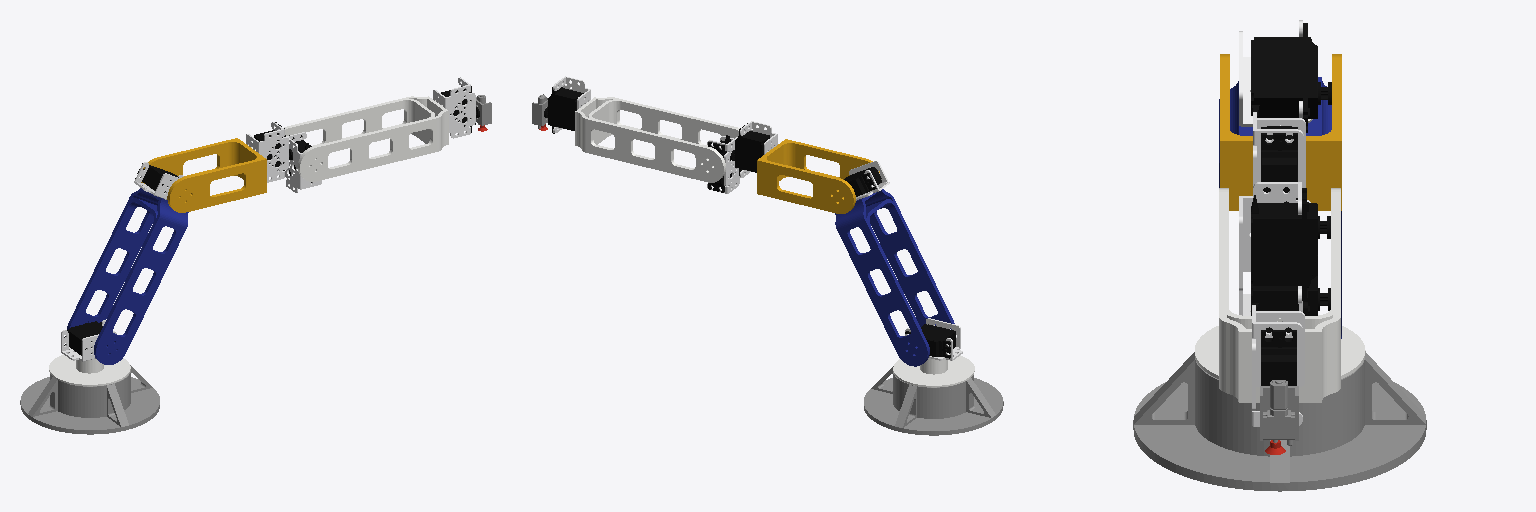
--- What the picture shows (computed from the rendered views, not written in the file) ---
The picture shows the robot from 3 angles, left to right: view 1: azimuth 30°, elevation 25°; view 2: azimuth 150°, elevation 25°; view 3: azimuth 270°, elevation 25°; orthographic projection.
Robot: robotic_arm_v3 — 19 links, 18 joints (6 continuous, 12 fixed); root link base_link; default pose: all joints at 0.
Visible links, largest first — view 1: link_2, link_5, base_link, link_3, link_1, servo_motor_mount_v2__4__1, servo_motor_mount_v2__2__1, link_4, servo_motor_mount_v2_1, MG996R_v5__1__1, servo_motor_mount_v2__1__1; view 2: link_2, link_5, base_link, link_3, link_1, MG996R_v5__5__1, MG996R_v5__3__1, MG996R_v5__1__1, link_4, MG996R_v5__2__1, servo_motor_mount_v2__4__1, servo_motor_mount_v2__2__1 (+1 smaller); view 3: base_link, link_5, link_3, MG996R_v5__4__1, MG996R_v5__2__1, servo_motor_mount_v2__4__1, link_4, MG996R_v5__3__1, MG996R_v5__5__1, link_1, MG996R_v5__1__1, servo_motor_mount_v2__2__1 (+4 smaller).
Boxes of the visible links, bbox=[...] form: link_2: bbox=[67, 188, 188, 364]; link_5: bbox=[284, 96, 448, 181]; base_link: bbox=[20, 365, 159, 434]; link_3: bbox=[141, 138, 266, 212]; link_1: bbox=[49, 354, 130, 386]; servo_motor_mount_v2__4__1: bbox=[433, 77, 475, 138]; servo_motor_mount_v2__2__1: bbox=[246, 122, 288, 182]; link_4: bbox=[285, 132, 321, 192]; servo_motor_mount_v2_1: bbox=[61, 320, 116, 361]; MG996R_v5__1__1: bbox=[64, 321, 102, 355]; servo_motor_mount_v2__1__1: bbox=[134, 162, 183, 199]; link_2: bbox=[835, 189, 954, 366]; link_5: bbox=[575, 97, 739, 182]; base_link: bbox=[864, 366, 1003, 435]; link_3: bbox=[757, 139, 879, 213]; link_1: bbox=[893, 355, 974, 387]; MG996R_v5__5__1: bbox=[544, 87, 583, 133]; MG996R_v5__3__1: bbox=[731, 123, 769, 175]; MG996R_v5__1__1: bbox=[905, 324, 955, 358]; link_4: bbox=[707, 136, 739, 193]; MG996R_v5__2__1: bbox=[844, 167, 881, 196]; servo_motor_mount_v2__4__1: bbox=[553, 76, 590, 132]; servo_motor_mount_v2__2__1: bbox=[740, 121, 777, 177]; base_link: bbox=[1133, 352, 1426, 491]; link_5: bbox=[1219, 188, 1340, 402]; link_3: bbox=[1220, 54, 1341, 210]; MG996R_v5__4__1: bbox=[1251, 188, 1330, 300]; MG996R_v5__2__1: bbox=[1251, 23, 1331, 132]; servo_motor_mount_v2__4__1: bbox=[1252, 305, 1304, 426]; link_4: bbox=[1239, 182, 1310, 303]; MG996R_v5__3__1: bbox=[1261, 126, 1297, 202]; MG996R_v5__5__1: bbox=[1261, 327, 1296, 385]; link_1: bbox=[1195, 326, 1365, 378]; MG996R_v5__1__1: bbox=[1251, 276, 1330, 315]; servo_motor_mount_v2__2__1: bbox=[1253, 112, 1305, 187].
Bounding box of the posed robot: 0.5659 × 0.15 × 0.2773 m (x, y, z).
Meshes: 19 distinct files referenced, 19 mesh visuals loaded (19 binary STL).

The robot description file, URDF, robot "robotic_arm_v3":
<?xml version="1.0" ?>
<!-- =================================================================================== -->
<!-- |    This document was autogenerated by xacro from [local-path]/ws_moveit/src/Robotic_Arm/robotic_arm_v3_description/urdf/robotic_arm_v3.xacro | -->
<!-- |    EDITING THIS FILE BY HAND IS NOT RECOMMENDED                                 | -->
<!-- =================================================================================== -->
<robot name="robotic_arm_v3">
    <material name="silver_default">
        <color rgba="0.700 0.700 0.700 1.000" />
    </material>
    <material name="steel_satin">
        <color rgba="0.6274509803921569 0.6274509803921569 0.6274509803921569 1.0" />
    </material>
    <material name="plastic_glossy_black">
        <color rgba="0.09803921568627451 0.09803921568627451 0.09803921568627451 1.0" />
    </material>
    <material name="abs_white">
        <color rgba="0.9647058823529412 0.9647058823529412 0.9529411764705882 1.0" />
    </material>
    <material name="aluminum_satin">
        <color rgba="0.9607843137254902 0.9607843137254902 0.9647058823529412 1.0" />
    </material>
    <material name="paint_enamel_glossy_blue">
        <color rgba="0.18823529411764706 0.23137254901960785 0.5882352941176471 1.0" />
    </material>
    <material name="paint_enamel_glossy_yellow">
        <color rgba="0.9098039215686274 0.6784313725490196 0.13725490196078433 1.0" />
    </material>
    <material name="paint_enamel_glossy_red">
        <color rgba="0.7686274509803922 0.20784313725490197 0.15294117647058825 1.0" />
    </material>
    <transmission name="twist_1_tran">
        <type>transmission_interface/SimpleTransmission</type>
        <joint name="twist_1">
            <hardwareInterface>PositionJointInterface</hardwareInterface>
        </joint>
        <actuator name="twist_1_actr">
            <hardwareInterface>PositionJointInterface</hardwareInterface>
            <mechanicalReduction>1</mechanicalReduction>
        </actuator>
    </transmission>
    <transmission name="rev_1_tran">
        <type>transmission_interface/SimpleTransmission</type>
        <joint name="rev_1">
            <hardwareInterface>PositionJointInterface</hardwareInterface>
        </joint>
        <actuator name="rev_1_actr">
            <hardwareInterface>PositionJointInterface</hardwareInterface>
            <mechanicalReduction>1</mechanicalReduction>
        </actuator>
    </transmission>
    <transmission name="rev_2_tran">
        <type>transmission_interface/SimpleTransmission</type>
        <joint name="rev_2">
            <hardwareInterface>PositionJointInterface</hardwareInterface>
        </joint>
        <actuator name="rev_2_actr">
            <hardwareInterface>PositionJointInterface</hardwareInterface>
            <mechanicalReduction>1</mechanicalReduction>
        </actuator>
    </transmission>
    <transmission name="twist_2_tran">
        <type>transmission_interface/SimpleTransmission</type>
        <joint name="twist_2">
            <hardwareInterface>PositionJointInterface</hardwareInterface>
        </joint>
        <actuator name="twist_2_actr">
            <hardwareInterface>PositionJointInterface</hardwareInterface>
            <mechanicalReduction>1</mechanicalReduction>
        </actuator>
    </transmission>
    <transmission name="rev_3_tran">
        <type>transmission_interface/SimpleTransmission</type>
        <joint name="rev_3">
            <hardwareInterface>PositionJointInterface</hardwareInterface>
        </joint>
        <actuator name="rev_3_actr">
            <hardwareInterface>PositionJointInterface</hardwareInterface>
            <mechanicalReduction>1</mechanicalReduction>
        </actuator>
    </transmission>
    <transmission name="twist_3_tran">
        <type>transmission_interface/SimpleTransmission</type>
        <joint name="twist_3">
            <hardwareInterface>PositionJointInterface</hardwareInterface>
        </joint>
        <actuator name="twist_3_actr">
            <hardwareInterface>PositionJointInterface</hardwareInterface>
            <mechanicalReduction>1</mechanicalReduction>
        </actuator>
    </transmission>
    <gazebo>
        <plugin filename="libgazebo_ros_control.so" name="gazebo_ros_control">
            <robotNamespace>/</robotNamespace>
        </plugin>
    </gazebo>
    <gazebo reference="base_link">
        <material>Gazebo/Silver</material>
        <mu1>0.2</mu1>
        <mu2>0.2</mu2>
        <selfCollide>true</selfCollide>
        <gravity>true</gravity>
    </gazebo>
    <gazebo reference="MG996R_v5_1">
        <material>Gazebo/Silver</material>
        <mu1>0.2</mu1>
        <mu2>0.2</mu2>
        <selfCollide>true</selfCollide>
    </gazebo>
    <gazebo reference="link_1">
        <material>Gazebo/Silver</material>
        <mu1>0.2</mu1>
        <mu2>0.2</mu2>
        <selfCollide>true</selfCollide>
    </gazebo>
    <gazebo reference="servo_motor_mount_v2_1">
        <material>Gazebo/Silver</material>
        <mu1>0.2</mu1>
        <mu2>0.2</mu2>
        <selfCollide>true</selfCollide>
    </gazebo>
    <gazebo reference="MG996R_v5__1__1">
        <material>Gazebo/Silver</material>
        <mu1>0.2</mu1>
        <mu2>0.2</mu2>
        <selfCollide>true</selfCollide>
    </gazebo>
    <gazebo reference="link_2">
        <material>Gazebo/Silver</material>
        <mu1>0.2</mu1>
        <mu2>0.2</mu2>
        <selfCollide>true</selfCollide>
    </gazebo>
    <gazebo reference="servo_motor_mount_v2__1__1">
        <material>Gazebo/Silver</material>
        <mu1>0.2</mu1>
        <mu2>0.2</mu2>
        <selfCollide>true</selfCollide>
    </gazebo>
    <gazebo reference="MG996R_v5__2__1">
        <material>Gazebo/Silver</material>
        <mu1>0.2</mu1>
        <mu2>0.2</mu2>
        <selfCollide>true</selfCollide>
    </gazebo>
    <gazebo reference="link_3">
        <material>Gazebo/Silver</material>
        <mu1>0.2</mu1>
        <mu2>0.2</mu2>
        <selfCollide>true</selfCollide>
    </gazebo>
    <gazebo reference="servo_motor_mount_v2__2__1">
        <material>Gazebo/Silver</material>
        <mu1>0.2</mu1>
        <mu2>0.2</mu2>
        <selfCollide>true</selfCollide>
    </gazebo>
    <gazebo reference="MG996R_v5__3__1">
        <material>Gazebo/Silver</material>
        <mu1>0.2</mu1>
        <mu2>0.2</mu2>
        <selfCollide>true</selfCollide>
    </gazebo>
    <gazebo reference="link_4">
        <material>Gazebo/Silver</material>
        <mu1>0.2</mu1>
        <mu2>0.2</mu2>
        <selfCollide>true</selfCollide>
    </gazebo>
    <gazebo reference="MG996R_v5__4__1">
        <material>Gazebo/Silver</material>
        <mu1>0.2</mu1>
        <mu2>0.2</mu2>
        <selfCollide>true</selfCollide>
    </gazebo>
    <gazebo reference="link_5">
        <material>Gazebo/Silver</material>
        <mu1>0.2</mu1>
        <mu2>0.2</mu2>
        <selfCollide>true</selfCollide>
    </gazebo>
    <gazebo reference="servo_motor_mount_v2__4__1">
        <material>Gazebo/Silver</material>
        <mu1>0.2</mu1>
        <mu2>0.2</mu2>
        <selfCollide>true</selfCollide>
    </gazebo>
    <gazebo reference="MG996R_v5__5__1">
        <material>Gazebo/Silver</material>
        <mu1>0.2</mu1>
        <mu2>0.2</mu2>
        <selfCollide>true</selfCollide>
    </gazebo>
    <gazebo reference="bracket_v1_1">
        <material>Gazebo/Silver</material>
        <mu1>0.2</mu1>
        <mu2>0.2</mu2>
        <selfCollide>true</selfCollide>
    </gazebo>
    <gazebo reference="SC3101PM_Micro_Vacuum_Pump_v4_1">
        <material>Gazebo/Silver</material>
        <mu1>0.2</mu1>
        <mu2>0.2</mu2>
        <selfCollide>true</selfCollide>
    </gazebo>
    <gazebo reference="suction_cup_v2_1">
        <material>Gazebo/Silver</material>
        <mu1>0.2</mu1>
        <mu2>0.2</mu2>
        <selfCollide>true</selfCollide>
    </gazebo>
    <link name="base_link">
        <inertial>
            <origin rpy="0 0 0" xyz="0.012483790570884359 0.012013723268763227 0.015430436005487897" />
            <mass value="1.5468533136807916" />
            <inertia ixx="0.001903" ixy="-0.0" ixz="-1.7e-05" iyy="0.001902" iyz="-0.0" izz="0.003158" />
        </inertial>
        <visual>
            <origin rpy="0 0 0" xyz="0 0 0" />
            <geometry>
                <mesh filename="package://robotic_arm_v3_description/meshes/base_link.stl" scale="0.001 0.001 0.001" />
            </geometry>
            <material name="steel_satin" />
        </visual>
        <collision>
            <origin rpy="0 0 0" xyz="0 0 0" />
            <geometry>
                <mesh filename="package://robotic_arm_v3_description/meshes/base_link.stl" scale="0.001 0.001 0.001" />
            </geometry>
        </collision>
    </link>
    <link name="MG996R_v5_1">
        <inertial>
            <origin rpy="0 0 0" xyz="0.0005296585036703434 1.984599674501042e-06 0.016794911451686104" />
            <mass value="0.05266070207626033" />
            <inertia ixx="8e-06" ixy="-0.0" ixz="-1e-06" iyy="1.3e-05" iyz="0.0" izz="8e-06" />
        </inertial>
        <visual>
            <origin rpy="0 0 0" xyz="-0.002 -0.012014 -0.005" />
            <geometry>
                <mesh filename="package://robotic_arm_v3_description/meshes/MG996R_v5_1.stl" scale="0.001 0.001 0.001" />
            </geometry>
            <material name="plastic_glossy_black" />
        </visual>
        <collision>
            <origin rpy="0 0 0" xyz="-0.002 -0.012014 -0.005" />
            <geometry>
                <mesh filename="package://robotic_arm_v3_description/meshes/MG996R_v5_1.stl" scale="0.001 0.001 0.001" />
            </geometry>
        </collision>
    </link>
    <link name="link_1">
        <inertial>
            <origin rpy="0 0 0" xyz="-4.227557418717831e-10 -2.7652828298030396e-07 0.004140012337718685" />
            <mass value="0.026178551905163206" />
            <inertia ixx="8e-06" ixy="-0.0" ixz="0.0" iyy="8e-06" iyz="-0.0" izz="1.4e-05" />
        </inertial>
        <visual>
            <origin rpy="0 0 0" xyz="-0.011436 -0.012036 -0.04487" />
            <geometry>
                <mesh filename="package://robotic_arm_v3_description/meshes/link_1_1.stl" scale="0.001 0.001 0.001" />
            </geometry>
            <material name="abs_white" />
        </visual>
        <collision>
            <origin rpy="0 0 0" xyz="-0.011436 -0.012036 -0.04487" />
            <geometry>
                <mesh filename="package://robotic_arm_v3_description/meshes/link_1_1.stl" scale="0.001 0.001 0.001" />
            </geometry>
        </collision>
    </link>
    <link name="servo_motor_mount_v2_1">
        <inertial>
            <origin rpy="0 0 0" xyz="-4.229836949448673e-10 -0.006932947890606664 0.00684844392624652" />
            <mass value="0.01586225500619648" />
            <inertia ixx="4e-06" ixy="0.0" ixz="0.0" iyy="5e-06" iyz="1e-06" izz="7e-06" />
        </inertial>
        <visual>
            <origin rpy="0 0 0" xyz="-0.011436 -0.012036 -0.06437" />
            <geometry>
                <mesh filename="package://robotic_arm_v3_description/meshes/servo_motor_mount_v2_1.stl" scale="0.001 0.001 0.001" />
            </geometry>
            <material name="aluminum_satin" />
        </visual>
        <collision>
            <origin rpy="0 0 0" xyz="-0.011436 -0.012036 -0.06437" />
            <geometry>
                <mesh filename="package://robotic_arm_v3_description/meshes/servo_motor_mount_v2_1.stl" scale="0.001 0.001 0.001" />
            </geometry>
        </collision>
    </link>
    <link name="MG996R_v5__1__1">
        <inertial>
            <origin rpy="0 0 0" xyz="0.0007836580806909778 0.0034033581921663458 0.011396015400325477" />
            <mass value="0.05266070207626033" />
            <inertia ixx="8e-06" ixy="-1e-06" ixz="0.0" iyy="8e-06" iyz="-0.0" izz="1.3e-05" />
        </inertial>
        <visual>
            <origin rpy="0 0 0" xyz="-0.011436 -0.012036 -0.06637" />
            <geometry>
                <mesh filename="package://robotic_arm_v3_description/meshes/MG996R_v5__1__1.stl" scale="0.001 0.001 0.001" />
            </geometry>
            <material name="plastic_glossy_black" />
        </visual>
        <collision>
            <origin rpy="0 0 0" xyz="-0.011436 -0.012036 -0.06637" />
            <geometry>
                <mesh filename="package://robotic_arm_v3_description/meshes/MG996R_v5__1__1.stl" scale="0.001 0.001 0.001" />
            </geometry>
        </collision>
    </link>
    <link name="link_2">
        <inertial>
            <origin rpy="0 0 0" xyz="0.046278988159250474 -0.026250276528283135 0.08015783680822662" />
            <mass value="0.0748448400142544" />
            <inertia ixx="0.000257" ixy="0.0" ixz="-0.000113" iyy="0.000283" iyz="0.0" izz="0.000127" />
        </inertial>
        <visual>
            <origin rpy="0 0 0" xyz="-0.021126 -0.038515 -0.077746" />
            <geometry>
                <mesh filename="package://robotic_arm_v3_description/meshes/link_2_1.stl" scale="0.001 0.001 0.001" />
            </geometry>
            <material name="paint_enamel_glossy_blue" />
        </visual>
        <collision>
            <origin rpy="0 0 0" xyz="-0.021126 -0.038515 -0.077746" />
            <geometry>
                <mesh filename="package://robotic_arm_v3_description/meshes/link_2_1.stl" scale="0.001 0.001 0.001" />
            </geometry>
        </collision>
    </link>
    <link name="servo_motor_mount_v2__1__1">
        <inertial>
            <origin rpy="0 0 0" xyz="-0.005236171286301994 -0.006932947890606934 0.01093028193188128" />
            <mass value="0.01586225500619648" />
            <inertia ixx="4e-06" ixy="0.0" ixz="1e-06" iyy="5e-06" iyz="0.0" izz="6e-06" />
        </inertial>
        <visual>
            <origin rpy="0 0 0" xyz="-0.106126 -0.012265 -0.224971" />
            <geometry>
                <mesh filename="package://robotic_arm_v3_description/meshes/servo_motor_mount_v2__1__1.stl" scale="0.001 0.001 0.001" />
            </geometry>
            <material name="aluminum_satin" />
        </visual>
        <collision>
            <origin rpy="0 0 0" xyz="-0.106126 -0.012265 -0.224971" />
            <geometry>
                <mesh filename="package://robotic_arm_v3_description/meshes/servo_motor_mount_v2__1__1.stl" scale="0.001 0.001 0.001" />
            </geometry>
        </collision>
    </link>
    <link name="MG996R_v5__2__1">
        <inertial>
            <origin rpy="0 0 0" xyz="0.0063762826228114106 0.003403358192166068 0.009476815909690656" />
            <mass value="0.05266070207626033" />
            <inertia ixx="9e-06" ixy="-1e-06" ixz="2e-06" iyy="8e-06" iyz="0.0" izz="1.1e-05" />
        </inertial>
        <visual>
            <origin rpy="0 0 0" xyz="-0.098466 -0.012265 -0.231703" />
            <geometry>
                <mesh filename="package://robotic_arm_v3_description/meshes/MG996R_v5__2__1.stl" scale="0.001 0.001 0.001" />
            </geometry>
            <material name="plastic_glossy_black" />
        </visual>
        <collision>
            <origin rpy="0 0 0" xyz="-0.098466 -0.012265 -0.231703" />
            <geometry>
                <mesh filename="package://robotic_arm_v3_description/meshes/MG996R_v5__2__1.stl" scale="0.001 0.001 0.001" />
            </geometry>
        </collision>
    </link>
    <link name="link_3">
        <inertial>
            <origin rpy="0 0 0" xyz="0.053981839516534444 -0.026250276528283333 -4.489916154148954e-07" />
            <mass value="0.052397770007646234" />
            <inertia ixx="4.4e-05" ixy="-0.0" ixz="0.0" iyy="9.1e-05" iyz="-0.0" izz="0.00012" />
        </inertial>
        <visual>
            <origin rpy="0 0 0" xyz="-0.112546 -0.038744 -0.23671" />
            <geometry>
                <mesh filename="package://robotic_arm_v3_description/meshes/link_3_1.stl" scale="0.001 0.001 0.001" />
            </geometry>
            <material name="paint_enamel_glossy_yellow" />
        </visual>
        <collision>
            <origin rpy="0 0 0" xyz="-0.112546 -0.038744 -0.23671" />
            <geometry>
                <mesh filename="package://robotic_arm_v3_description/meshes/link_3_1.stl" scale="0.001 0.001 0.001" />
            </geometry>
        </collision>
    </link>
    <link name="servo_motor_mount_v2__2__1">
        <inertial>
            <origin rpy="0 0 0" xyz="0.014066859448756575 -0.007339503171760749 0.011608317931853795" />
            <mass value="0.01586225500619648" />
            <inertia ixx="5e-06" ixy="1e-06" ixz="0.0" iyy="7e-06" iyz="0.0" izz="4e-06" />
        </inertial>
        <visual>
            <origin rpy="0 0 0" xyz="-0.212546 -0.012494 -0.23671" />
            <geometry>
                <mesh filename="package://robotic_arm_v3_description/meshes/servo_motor_mount_v2__2__1.stl" scale="0.001 0.001 0.001" />
            </geometry>
            <material name="aluminum_satin" />
        </visual>
        <collision>
            <origin rpy="0 0 0" xyz="-0.212546 -0.012494 -0.23671" />
            <geometry>
                <mesh filename="package://robotic_arm_v3_description/meshes/servo_motor_mount_v2__2__1.stl" scale="0.001 0.001 0.001" />
            </geometry>
        </collision>
    </link>
    <link name="MG996R_v5__3__1">
        <inertial>
            <origin rpy="0 0 0" xyz="0.022294165531529547 -0.000997409035859256 -0.0005293405718122257" />
            <mass value="0.05266070207626033" />
            <inertia ixx="8e-06" ixy="0.0" ixz="1e-06" iyy="1.3e-05" iyz="0.0" izz="8e-06" />
        </inertial>
        <visual>
            <origin rpy="0 0 0" xyz="-0.214546 -0.012806 -0.248318" />
            <geometry>
                <mesh filename="package://robotic_arm_v3_description/meshes/MG996R_v5__3__1.stl" scale="0.001 0.001 0.001" />
            </geometry>
            <material name="plastic_glossy_black" />
        </visual>
        <collision>
            <origin rpy="0 0 0" xyz="-0.214546 -0.012806 -0.248318" />
            <geometry>
                <mesh filename="package://robotic_arm_v3_description/meshes/MG996R_v5__3__1.stl" scale="0.001 0.001 0.001" />
            </geometry>
        </collision>
    </link>
    <link name="link_4">
        <inertial>
            <origin rpy="0 0 0" xyz="0.0068476980060900305 -0.0069323415261403395 -0.012499681645158217" />
            <mass value="0.01586225500619648" />
            <inertia ixx="7e-06" ixy="1e-06" ixz="-0.0" iyy="5e-06" iyz="-0.0" izz="4e-06" />
        </inertial>
        <visual>
            <origin rpy="0 0 0" xyz="-0.259916 -0.011828 -0.238882" />
            <geometry>
                <mesh filename="package://robotic_arm_v3_description/meshes/link_4__1__1.stl" scale="0.001 0.001 0.001" />
            </geometry>
            <material name="aluminum_satin" />
        </visual>
        <collision>
            <origin rpy="0 0 0" xyz="-0.259916 -0.011828 -0.238882" />
            <geometry>
                <mesh filename="package://robotic_arm_v3_description/meshes/link_4__1__1.stl" scale="0.001 0.001 0.001" />
            </geometry>
        </collision>
    </link>
    <link name="MG996R_v5__4__1">
        <inertial>
            <origin rpy="0 0 0" xyz="0.011603792141991476 0.003403964556632671 0.0007839768585079787" />
            <mass value="0.05266070207626033" />
            <inertia ixx="1.3e-05" ixy="0.0" ixz="-0.0" iyy="8e-06" iyz="-1e-06" izz="8e-06" />
        </inertial>
        <visual>
            <origin rpy="0 0 0" xyz="-0.261916 -0.011828 -0.226382" />
            <geometry>
                <mesh filename="package://robotic_arm_v3_description/meshes/MG996R_v5__4__1.stl" scale="0.001 0.001 0.001" />
            </geometry>
            <material name="plastic_glossy_black" />
        </visual>
        <collision>
            <origin rpy="0 0 0" xyz="-0.261916 -0.011828 -0.226382" />
            <geometry>
                <mesh filename="package://robotic_arm_v3_description/meshes/MG996R_v5__4__1.stl" scale="0.001 0.001 0.001" />
            </geometry>
        </collision>
    </link>
    <link name="link_5">
        <inertial>
            <origin rpy="0 0 0" xyz="0.09255750902445237 -0.026249670163816744 3.179318582846591e-07" />
            <mass value="0.0748448400142544" />
            <inertia ixx="6.2e-05" ixy="-0.0" ixz="0.0" iyy="0.000283" iyz="0.0" izz="0.000322" />
        </inertial>
        <visual>
            <origin rpy="0 0 0" xyz="-0.27354 -0.038307 -0.236072" />
            <geometry>
                <mesh filename="package://robotic_arm_v3_description/meshes/link_5_1.stl" scale="0.001 0.001 0.001" />
            </geometry>
            <material name="abs_white" />
        </visual>
        <collision>
            <origin rpy="0 0 0" xyz="-0.27354 -0.038307 -0.236072" />
            <geometry>
                <mesh filename="package://robotic_arm_v3_description/meshes/link_5_1.stl" scale="0.001 0.001 0.001" />
            </geometry>
        </collision>
    </link>
    <link name="servo_motor_mount_v2__4__1">
        <inertial>
            <origin rpy="0 0 0" xyz="0.01406685965171045 -0.007338896807294115 0.011001084855327442" />
            <mass value="0.01586225500619648" />
            <inertia ixx="5e-06" ixy="1e-06" ixz="0.0" iyy="7e-06" iyz="0.0" izz="4e-06" />
        </inertial>
        <visual>
            <origin rpy="0 0 0" xyz="-0.44354 -0.012057 -0.236072" />
            <geometry>
                <mesh filename="package://robotic_arm_v3_description/meshes/servo_motor_mount_v2__4__1.stl" scale="0.001 0.001 0.001" />
            </geometry>
            <material name="aluminum_satin" />
        </visual>
        <collision>
            <origin rpy="0 0 0" xyz="-0.44354 -0.012057 -0.236072" />
            <geometry>
                <mesh filename="package://robotic_arm_v3_description/meshes/servo_motor_mount_v2__4__1.stl" scale="0.001 0.001 0.001" />
            </geometry>
        </collision>
    </link>
    <link name="MG996R_v5__5__1">
        <inertial>
            <origin rpy="0 0 0" xyz="0.02229416573448345 -0.0004974088329054386 -0.0005298067248649674" />
            <mass value="0.05266070207626033" />
            <inertia ixx="8e-06" ixy="0.0" ixz="1e-06" iyy="1.3e-05" iyz="0.0" izz="8e-06" />
        </inertial>
        <visual>
            <origin rpy="0 0 0" xyz="-0.44554 -0.012057 -0.244682" />
            <geometry>
                <mesh filename="package://robotic_arm_v3_description/meshes/MG996R_v5__5__1.stl" scale="0.001 0.001 0.001" />
            </geometry>
            <material name="plastic_glossy_black" />
        </visual>
        <collision>
            <origin rpy="0 0 0" xyz="-0.44554 -0.012057 -0.244682" />
            <geometry>
                <mesh filename="package://robotic_arm_v3_description/meshes/MG996R_v5__5__1.stl" scale="0.001 0.001 0.001" />
            </geometry>
        </collision>
    </link>
    <link name="bracket_v1_1">
        <inertial>
            <origin rpy="0 0 0" xyz="0.003842400475547958 3.3003913712040256e-07 -1.477989753084774e-07" />
            <mass value="0.014496796479023782" />
            <inertia ixx="2e-06" ixy="-0.0" ixz="-0.0" iyy="1e-06" iyz="0.0" izz="1e-06" />
        </inertial>
        <visual>
            <origin rpy="0 0 0" xyz="-0.49091 -0.011579 -0.235246" />
            <geometry>
                <mesh filename="package://robotic_arm_v3_description/meshes/bracket_v1_1.stl" scale="0.001 0.001 0.001" />
            </geometry>
            <material name="steel_satin" />
        </visual>
        <collision>
            <origin rpy="0 0 0" xyz="-0.49091 -0.011579 -0.235246" />
            <geometry>
                <mesh filename="package://robotic_arm_v3_description/meshes/bracket_v1_1.stl" scale="0.001 0.001 0.001" />
            </geometry>
        </collision>
    </link>
    <link name="SC3101PM_Micro_Vacuum_Pump_v4_1">
        <inertial>
            <origin rpy="0 0 0" xyz="0.003749530878823293 4.3695998330883085e-05 -0.0009019794464975028" />
            <mass value="0.021742991324107133" />
            <inertia ixx="2e-06" ixy="-0.0" ixz="0.0" iyy="2e-06" iyz="0.0" izz="0.0" />
        </inertial>
        <visual>
            <origin rpy="0 0 0" xyz="-0.49291 -0.011579 -0.235246" />
            <geometry>
                <mesh filename="package://robotic_arm_v3_description/meshes/SC3101PM_Micro_Vacuum_Pump_v4_1.stl" scale="0.001 0.001 0.001" />
            </geometry>
            <material name="steel_satin" />
        </visual>
        <collision>
            <origin rpy="0 0 0" xyz="-0.49291 -0.011579 -0.235246" />
            <geometry>
                <mesh filename="package://robotic_arm_v3_description/meshes/SC3101PM_Micro_Vacuum_Pump_v4_1.stl" scale="0.001 0.001 0.001" />
            </geometry>
        </collision>
    </link>
    <link name="suction_cup_v2_1">
        <inertial>
            <origin rpy="0 0 0" xyz="-4.6898596595124076e-07 3.3003876368474516e-07 -0.00028237251026094756" />
            <mass value="8.196286287484906e-05" />
            <inertia ixx="0.0" ixy="0.0" ixz="0.0" iyy="0.0" iyz="-0.0" izz="0.0" />
        </inertial>
        <visual>
            <origin rpy="0 0 0" xyz="-0.49666 -0.009704 -0.217355" />
            <geometry>
                <mesh filename="package://robotic_arm_v3_description/meshes/suction_cup_v2_1.stl" scale="0.001 0.001 0.001" />
            </geometry>
            <material name="paint_enamel_glossy_red" />
        </visual>
        <collision>
            <origin rpy="0 0 0" xyz="-0.49666 -0.009704 -0.217355" />
            <geometry>
                <mesh filename="package://robotic_arm_v3_description/meshes/suction_cup_v2_1.stl" scale="0.001 0.001 0.001" />
            </geometry>
        </collision>
    </link>
    <joint name="Rigid1" type="fixed">
        <origin rpy="0 0 0" xyz="0.002 0.012014 0.005" />
        <parent link="base_link" />
        <child link="MG996R_v5_1" />
    </joint>
    <joint name="twist_1" type="continuous">
        <origin rpy="0 0 0" xyz="0.009436 2.2e-05 0.03987" />
        <parent link="MG996R_v5_1" />
        <child link="link_1" />
        <axis xyz="0.0 -0.0 1.0" />
    </joint>
    <joint name="Rigid3" type="fixed">
        <origin rpy="0 0 0" xyz="0.0 0.0 0.0195" />
        <parent link="link_1" />
        <child link="servo_motor_mount_v2_1" />
    </joint>
    <joint name="Rigid4" type="fixed">
        <origin rpy="0 0 0" xyz="0.0 0.0 0.002" />
        <parent link="servo_motor_mount_v2_1" />
        <child link="MG996R_v5__1__1" />
    </joint>
    <joint name="rev_1" type="continuous">
        <origin rpy="0 0 0" xyz="0.00969 0.026479 0.011376" />
        <parent link="MG996R_v5__1__1" />
        <child link="link_2" />
        <axis xyz="0.0 1.0 0.0" />
    </joint>
    <joint name="Rigid6" type="fixed">
        <origin rpy="0 0 0" xyz="0.085 -0.02625 0.147225" />
        <parent link="link_2" />
        <child link="servo_motor_mount_v2__1__1" />
    </joint>
    <joint name="Rigid7" type="fixed">
        <origin rpy="0 0 0" xyz="-0.00766 0.0 0.006732" />
        <parent link="servo_motor_mount_v2__1__1" />
        <child link="MG996R_v5__2__1" />
    </joint>
    <joint name="rev_2" type="continuous">
        <origin rpy="0 0 0" xyz="0.01408 0.026479 0.005007" />
        <parent link="MG996R_v5__2__1" />
        <child link="link_3" />
        <axis xyz="0.0 1.0 0.0" />
    </joint>
    <joint name="Rigid100" type="fixed">
        <origin rpy="0 0 0" xyz="0.1 -0.02625 0.0" />
        <parent link="link_3" />
        <child link="servo_motor_mount_v2__2__1" />
        <axis xyz="1.0 -0.0 -0.0" />
    </joint>
    <joint name="Rigid10" type="fixed">
        <origin rpy="0 0 0" xyz="0.002 0.000312 0.011608" />
        <parent link="servo_motor_mount_v2__2__1" />
        <child link="MG996R_v5__3__1" />
    </joint>
    <joint name="twist_2" type="continuous">
        <origin rpy="0 0 0" xyz="0.04537 -0.000978 -0.009436" />
        <parent link="MG996R_v5__3__1" />
        <child link="link_4" />
        <axis xyz="1.0 -0.0 -0.0" />
    </joint>
    <joint name="Rigid12" type="fixed">
        <origin rpy="0 0 0" xyz="0.002 0.0 -0.0125" />
        <parent link="link_4" />
        <child link="MG996R_v5__4__1" />
    </joint>
    <joint name="rev_3" type="continuous">
        <origin rpy="0 0 0" xyz="0.011624 0.026479 0.00969" />
        <parent link="MG996R_v5__4__1" />
        <child link="link_5" />
        <axis xyz="0.0 1.0 0.0" />
    </joint>
    <joint name="Rigid14" type="fixed">
        <origin rpy="0 0 0" xyz="0.17 -0.02625 0.0" />
        <parent link="link_5" />
        <child link="servo_motor_mount_v2__4__1" />
    </joint>
    <joint name="Rigid15" type="fixed">
        <origin rpy="0 0 0" xyz="0.002 0.0 0.00861" />
        <parent link="servo_motor_mount_v2__4__1" />
        <child link="MG996R_v5__5__1" />
    </joint>
    <joint name="twist_3" type="continuous">
        <origin rpy="0 0 0" xyz="0.04537 -0.000478 -0.009436" />
        <parent link="MG996R_v5__5__1" />
        <child link="bracket_v1_1" />
        <axis xyz="1.0 0.0 0.0" />
    </joint>
    <joint name="Rigid17" type="fixed">
        <origin rpy="0 0 0" xyz="0.002 0.0 0.0" />
        <parent link="bracket_v1_1" />
        <child link="SC3101PM_Micro_Vacuum_Pump_v4_1" />
    </joint>
    <joint name="Rigid18" type="fixed">
        <origin rpy="0 0 0" xyz="0.00375 -0.001875 -0.017891" />
        <parent link="SC3101PM_Micro_Vacuum_Pump_v4_1" />
        <child link="suction_cup_v2_1" />
    </joint>
</robot>
